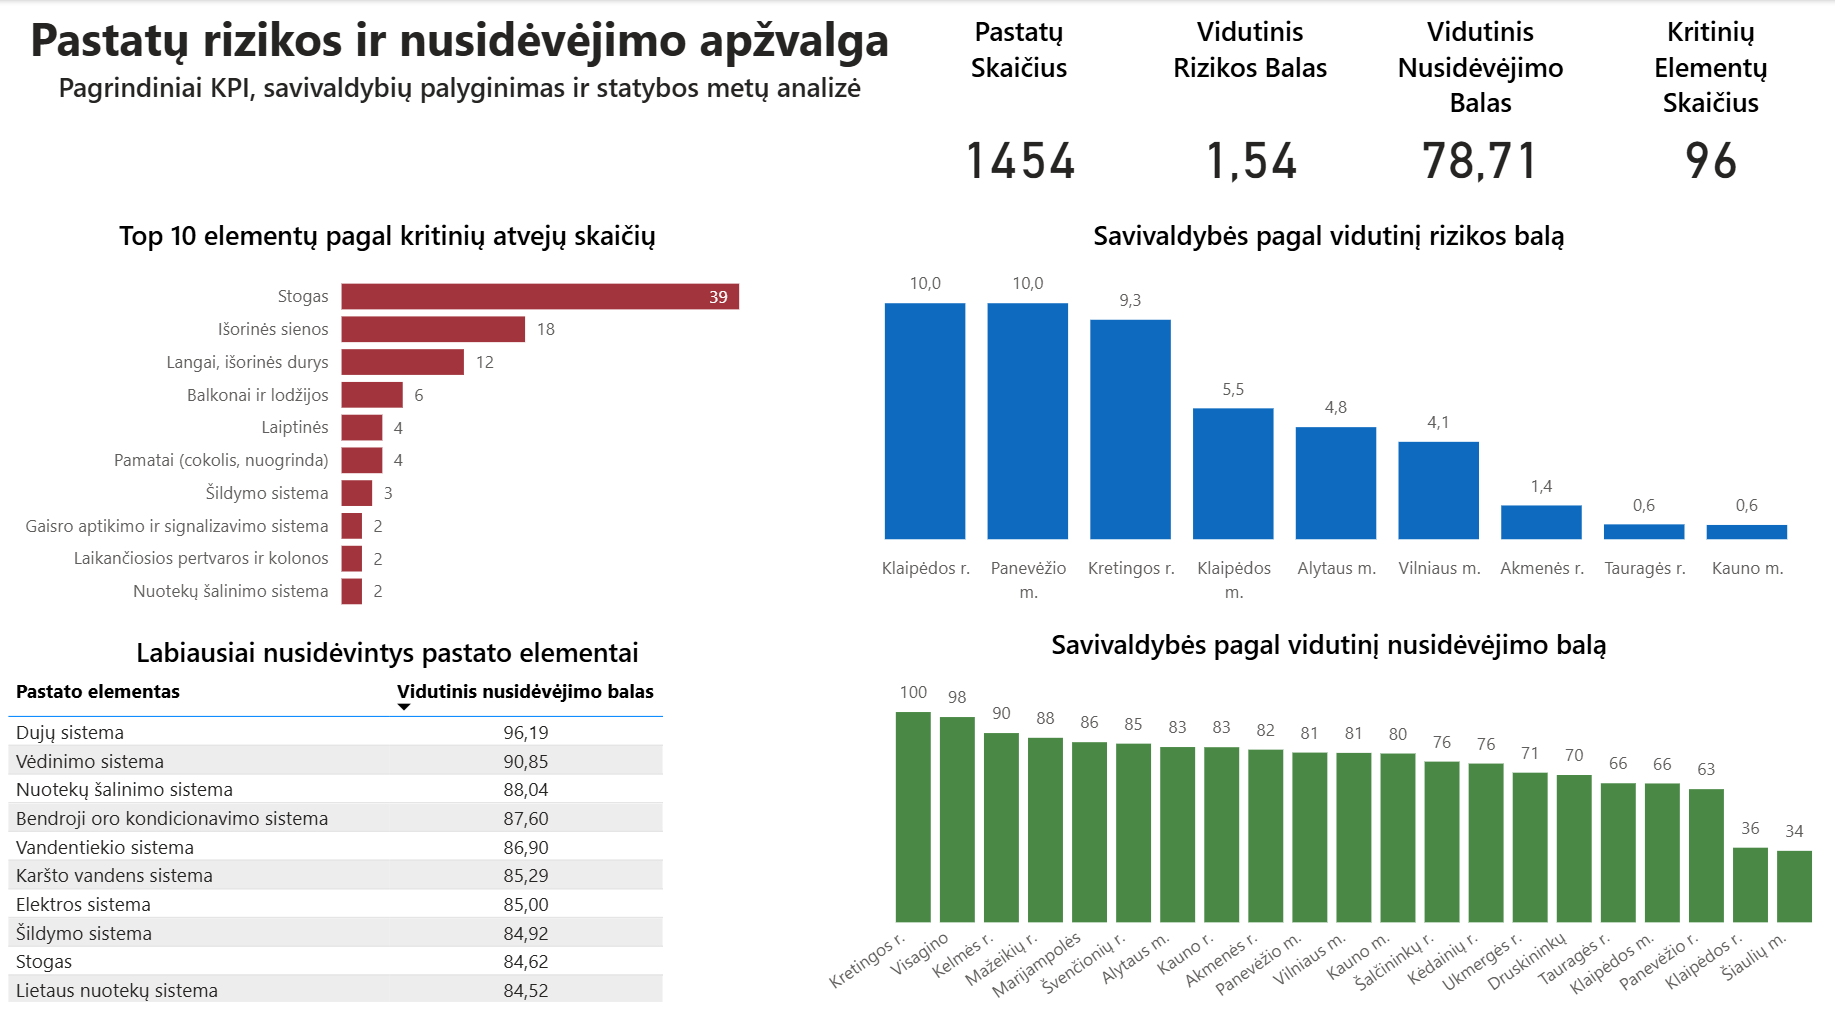

This screenshot's page, from the dashboard's own definition file:
{"tool":"powerbi","page":{"name":"Executive Overview","canvas":[1280,720],"ordinal":0},"visuals":[{"type":"textbox","box":[0,0,640.6,85],"z":0},{"type":"card","title":"Pastatų Skaičius","fields":{"Values":["Pastatai.PastatuSkaicius_Rodymui"]},"box":[640.6,8.7,139.1,148.8],"z":1000},{"type":"card","title":"Vidutinis Rizikos Balas","fields":{"Values":["Pastatai.VidutinisRizikosBalas_Rodymui"]},"box":[800.9,8.7,140.1,148.8],"z":2000},{"type":"card","title":"Vidutinis Nusidėvėjimo Balas","fields":{"Values":["Pastatai.VidutinisNusidevejimoBalas_Rodymui"]},"box":[961.3,8.7,140.1,124.6],"z":3000},{"type":"card","title":"Kritinių Elementų Skaičius","fields":{"Values":["ElementuRizika.KritiniuElementuSkaicius_Rodymui"]},"box":[1121.7,8.7,140.1,124.6],"z":4000},{"type":"clusteredColumnChart","title":"Savivaldybės pagal vidutinį rizikos balą","fields":{"Category":["Pastatai.savivaldybe_sutvarkyta"],"Y":["Pastatai.M_VidutinisRizikosBalas_Bazinis"]},"box":[572,150.7,708.2,278.3],"z":5000},{"type":"clusteredColumnChart","title":"Savivaldybės pagal vidutinį nusidėvėjimo balą","fields":{"Category":["Pastatai.savivaldybe_sutvarkyta"],"Y":["Pastatai.M_VidutinisNusidevejimoBalas_Bazinis"]},"box":[572,435.7,708.2,284],"z":6000},{"type":"tableEx","title":"Labiausiai nusidėvintys pastato elementai","fields":{"Values":["ElementuNusidevejimas.elemento_pavadinimas","ElementuNusidevejimas.VidutinisElementoNusidevejimas"]},"box":[0,441.5,540.1,278.3],"z":7000},{"type":"clusteredBarChart","title":"Top 10 elementų pagal kritinių atvejų skaičių","fields":{"Category":["ElementuRizika.elemento_pavadinimas"],"Y":["ElementuRizika.M_KritiniuAtvejuSkaicius"]},"box":[0,150.7,540.1,285],"z":8000}]}

Visuals, with their boxes in screenshot pixels (x1, y1, x2, y2), scaled from the page's 1280x720 canvas onto the 1835x1032 screenshot:
textbox: left=0, top=0, right=918, bottom=122
"Pastatų Skaičius" card: left=918, top=12, right=1118, bottom=226
"Vidutinis Rizikos Balas" card: left=1148, top=12, right=1349, bottom=226
"Vidutinis Nusidėvėjimo Balas" card: left=1378, top=12, right=1579, bottom=191
"Kritinių Elementų Skaičius" card: left=1608, top=12, right=1809, bottom=191
"Savivaldybės pagal vidutinį rizikos balą" clusteredColumnChart: left=820, top=216, right=1834, bottom=615
"Savivaldybės pagal vidutinį nusidėvėjimo balą" clusteredColumnChart: left=820, top=625, right=1834, bottom=1031
"Labiausiai nusidėvintys pastato elementai" tableEx: left=0, top=633, right=774, bottom=1031
"Top 10 elementų pagal kritinių atvejų skaičių" clusteredBarChart: left=0, top=216, right=774, bottom=625
